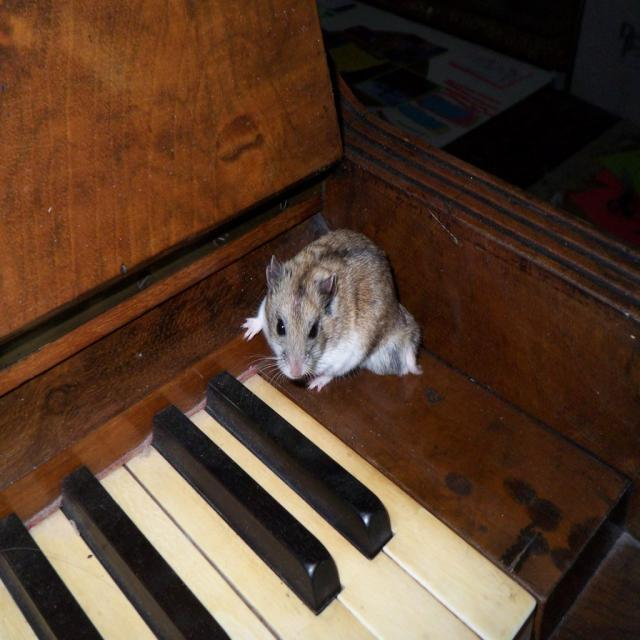rat: (243, 229, 424, 392)
